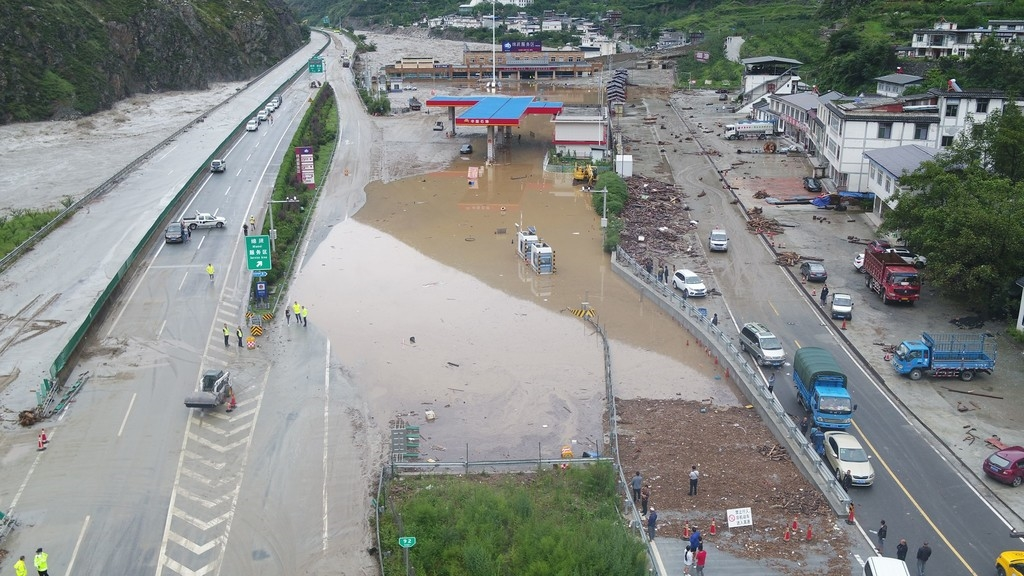puddle: (314, 156, 722, 442)
